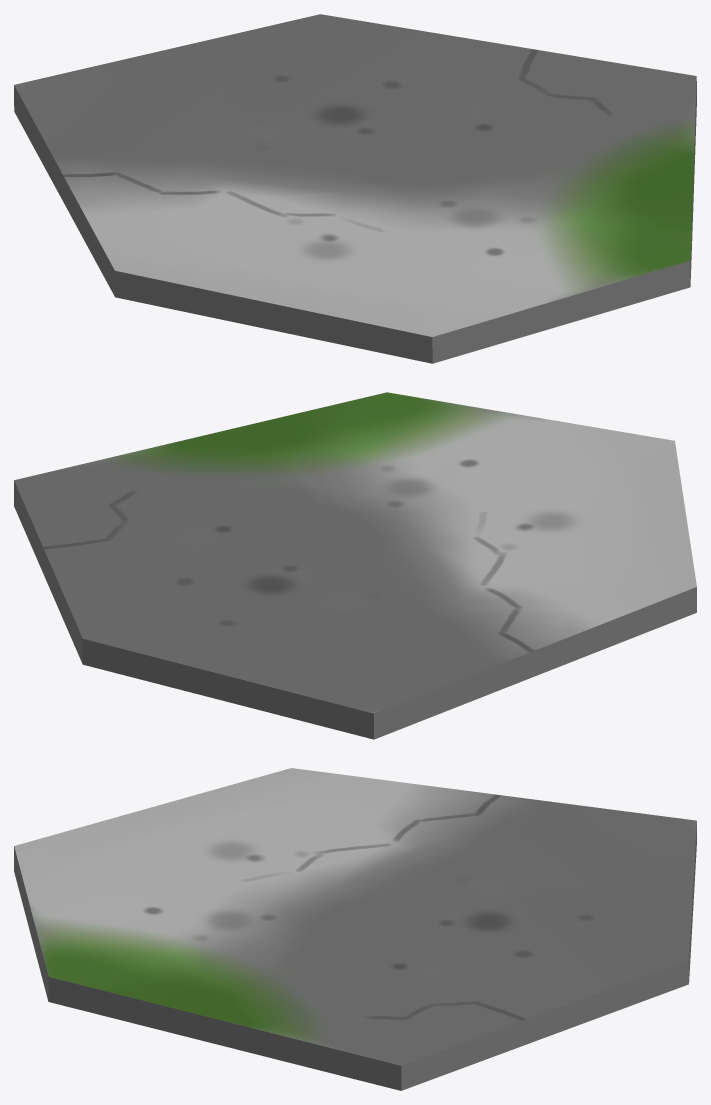
3 renders of one model, top to bottom at view 1: azimuth 30°, elevation 25°; view 2: azimuth 150°, elevation 25°; view 3: azimuth 270°, elevation 25°, orthographic. The views are drawn at different scales.
Parts seen in each view (by area): view 1: Cercle.019; view 2: Cercle.019; view 3: Cercle.019.
Boxes of the visible parts, x1,y1,x2,y2 form: Cercle.019: (14,14,696,363); Cercle.019: (14,392,696,739); Cercle.019: (14,768,696,1090).
Bounding box in the file's own units: 144 × 6.66 × 142.
1 material, 1 textured.
